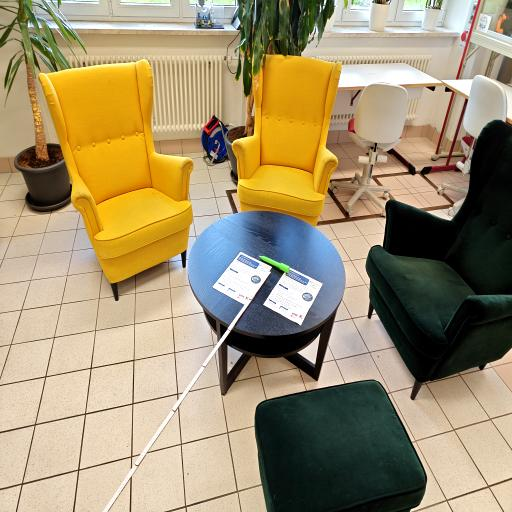Probe-Detection: (259, 256, 290, 273)
